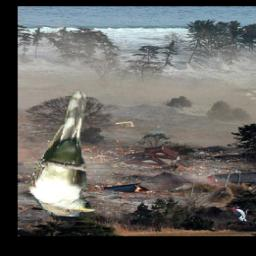Cuckoo: (29, 89, 97, 216)
Woodpecker: (231, 206, 249, 224)
